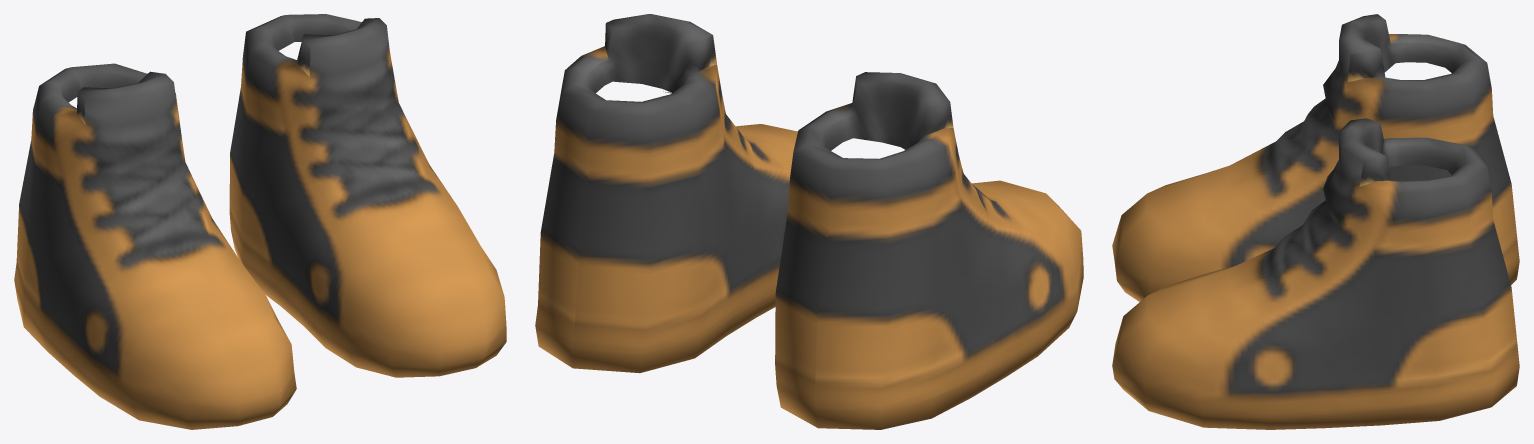
File: Model_Sneakers.glb
3 renders of one model, left to right at view 1: azimuth 30°, elevation 25°; view 2: azimuth 150°, elevation 25°; view 3: azimuth 270°, elevation 25°, orthographic. The views are drawn at different scales.
Parts seen in each view (by area): view 1: SHOES; view 2: SHOES; view 3: SHOES.
Boxes of the visible parts, bbox=[...] form: SHOES: bbox=[14, 14, 506, 429]; SHOES: bbox=[535, 14, 1083, 429]; SHOES: bbox=[1112, 14, 1519, 429].
Size of the model in its own units: 0.2414 by 0.1645 by 0.2261.
Materials: 1 (1 with a texture image).
